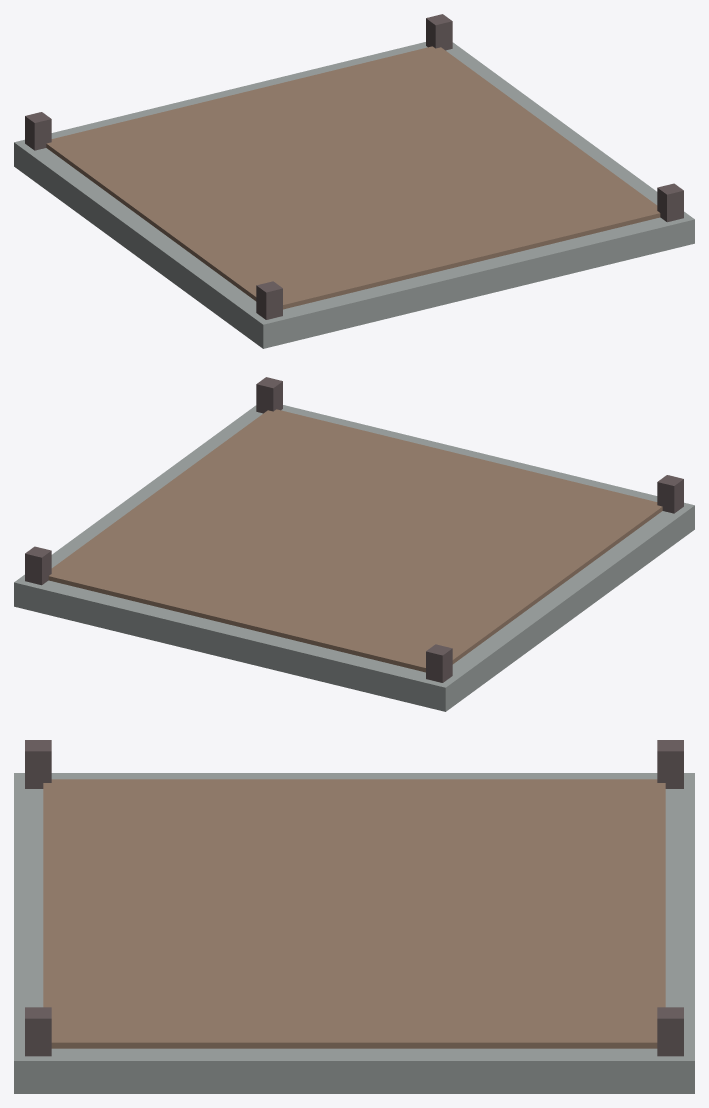
The model's file is training_arena.glb.
3 renders of one model, top to bottom at view 1: azimuth 30°, elevation 25°; view 2: azimuth 150°, elevation 25°; view 3: azimuth 270°, elevation 25°, orthographic. The views are drawn at different scales.
Visible parts, largest first — view 1: training_arena_01_platform, training_arena_00_base, training_arena_02_perimeter; view 2: training_arena_01_platform, training_arena_00_base, training_arena_02_perimeter; view 3: training_arena_01_platform, training_arena_00_base, training_arena_02_perimeter.
Part boxes in pixels (x1,y1,x2,y2): training_arena_01_platform: (46, 46, 660, 309); training_arena_00_base: (14, 42, 694, 348); training_arena_02_perimeter: (25, 14, 683, 319); training_arena_01_platform: (48, 409, 662, 672); training_arena_00_base: (14, 405, 694, 711); training_arena_02_perimeter: (25, 377, 683, 682); training_arena_01_platform: (43, 779, 665, 1048); training_arena_00_base: (14, 773, 694, 1093); training_arena_02_perimeter: (25, 740, 683, 1056).
Size of the model in its own units: 14 by 1.61 by 14.
